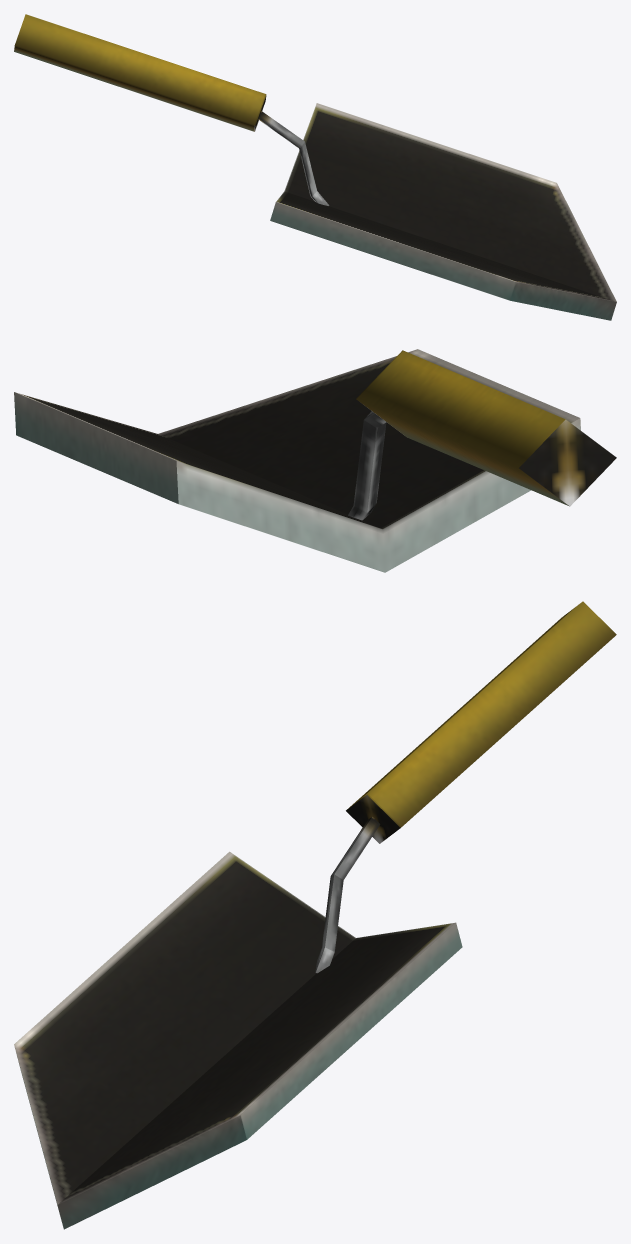
The model's file is ShaShouJia_01_chanzi_01.FBX.
The picture shows the model from 3 angles, top to bottom: view 1: azimuth 30°, elevation 25°; view 2: azimuth 150°, elevation 25°; view 3: azimuth 270°, elevation 25°; orthographic projection. The views are drawn at different scales.
Parts seen in each view (by area): view 1: ShaShouJia_01_chanzi_01; view 2: ShaShouJia_01_chanzi_01; view 3: ShaShouJia_01_chanzi_01.
Boxes of the visible parts, x1,y1,x2,y2 form: ShaShouJia_01_chanzi_01: (14, 14, 616, 320); ShaShouJia_01_chanzi_01: (14, 349, 616, 572); ShaShouJia_01_chanzi_01: (14, 601, 616, 1229).
Bounding box in the file's own units: 234 × 139 × 210.
